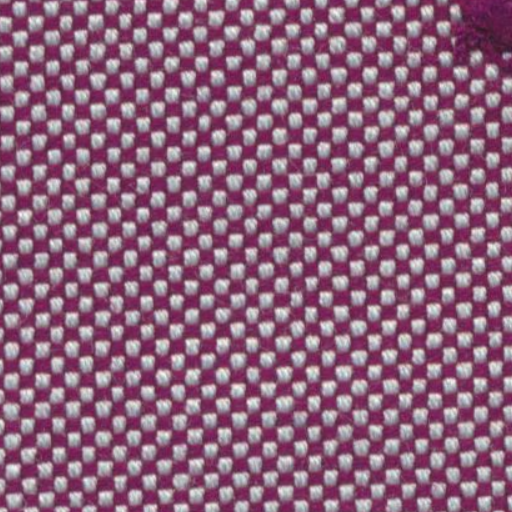MianQiu: (409, 6, 508, 87)
